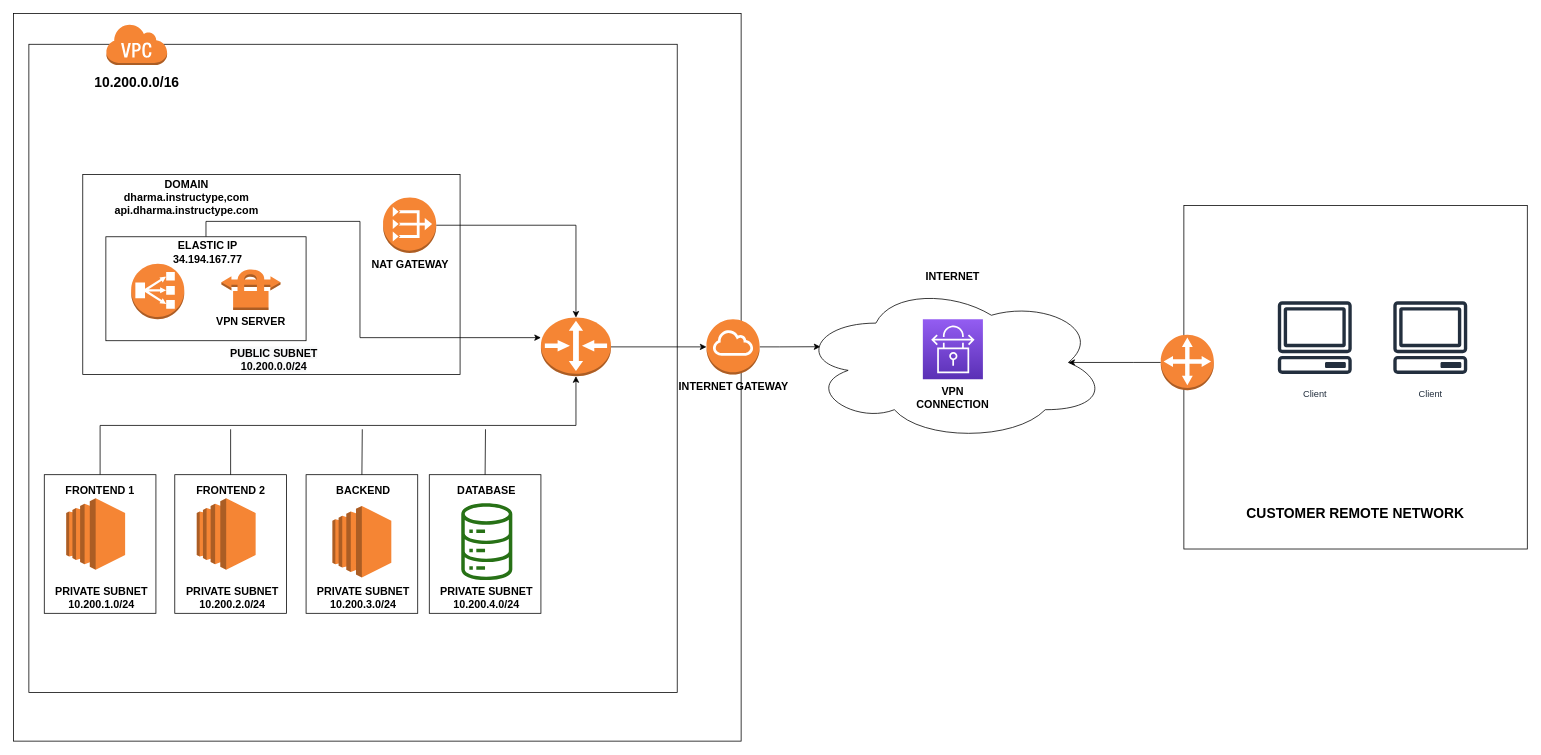
Some shapes in this 1541 by 755 pixel diagram are drawn without their labels. Each missing label, with the centre of its shape:
"CLIENT VPN" goes at pixel 1187 362.
"LOAD BALANCING" goes at pixel 157 291.
"ROUTER" goes at pixel 575 346.
